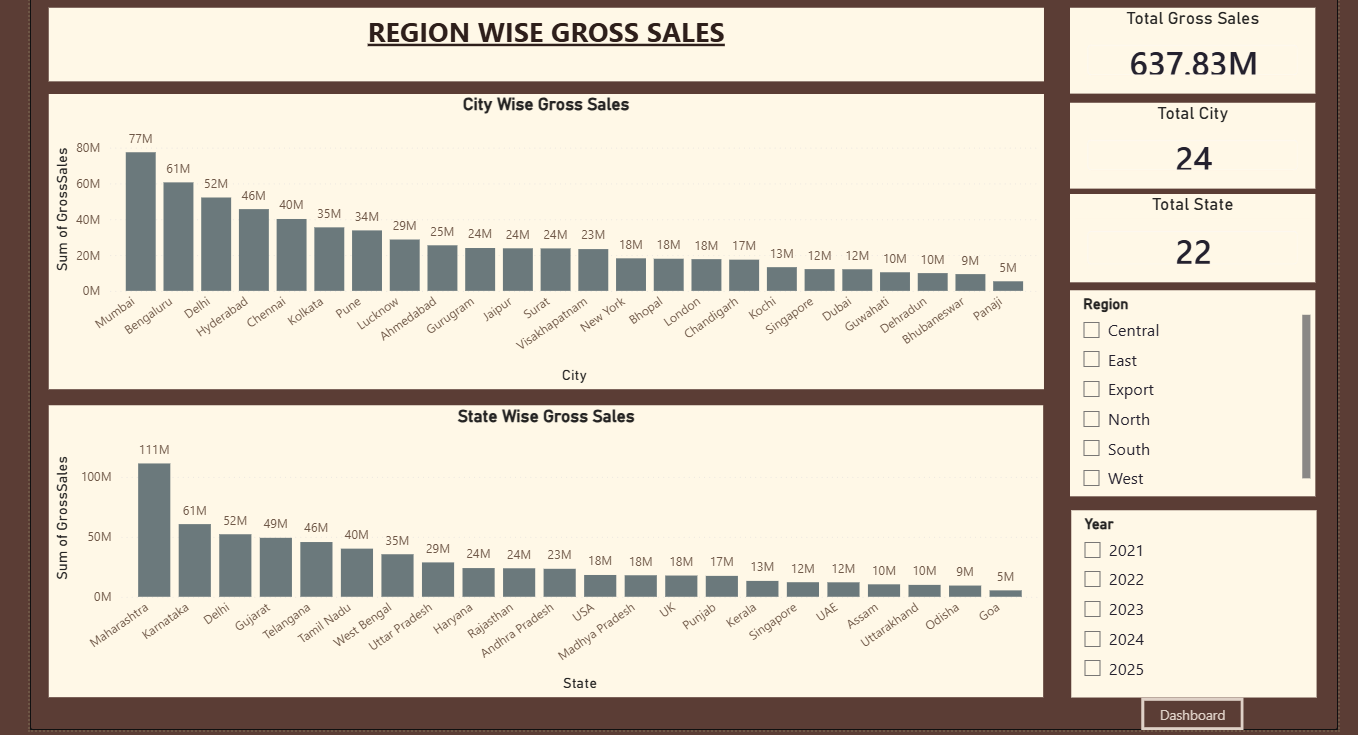

The page's visual inventory and layout, read from the dashboard file:
{"tool":"powerbi","page":{"name":"Region (Gross Sales)","canvas":[1280,720],"ordinal":1},"visuals":[{"type":"clusteredColumnChart","title":"State Wise Gross Sales","fields":{"Category":["DimGeography.State"],"Y":["Sum(FactSales.GrossSales)"]},"box":[18.3,402.4,973.2,285.4],"z":0},{"type":"slicer","fields":{"Values":["DimDate.Year"]},"box":[1018.3,504.9,240.2,182.9],"z":1000},{"type":"slicer","fields":{"Values":["DimGeography.Region"]},"box":[1017.1,290.2,240.2,201.2],"z":2000},{"type":"clusteredColumnChart","title":"City Wise Gross Sales","fields":{"Category":["DimGeography.City"],"Y":["Sum(FactSales.GrossSales)"]},"box":[18.3,97.8,973.4,288.6],"z":3000},{"type":"textbox","box":[18.3,13.5,973.4,72.1],"z":4000},{"type":"cardVisual","title":"Total City","fields":{"Data":["Count(DimGeography.City)"]},"box":[1017.1,106.1,240.2,84.1],"z":5000},{"type":"cardVisual","title":"Total State","fields":{"Data":["Count(DimGeography.State)"]},"box":[1017.1,195.1,240.2,86.6],"z":6000},{"type":"cardVisual","title":"Total  Gross Sales","fields":{"Data":["Sum(FactSales.GrossSales)"]},"box":[1017.1,13.4,240.2,84.1],"z":7000},{"type":"actionButton","box":[1087.1,688.5,100.3,31.8],"z":7001}]}

Visuals, with their boxes in screenshot pixels (x1, y1, x2, y2):
"State Wise Gross Sales" clusteredColumnChart: select_region(61, 402, 1041, 689)
slicer - DimDate.Year: select_region(1068, 505, 1310, 689)
slicer - DimGeography.Region: select_region(1067, 289, 1309, 492)
"City Wise Gross Sales" clusteredColumnChart: select_region(61, 95, 1042, 386)
textbox: select_region(61, 10, 1042, 83)
"Total City" cardVisual: select_region(1067, 103, 1309, 188)
"Total State" cardVisual: select_region(1067, 193, 1309, 280)
"Total  Gross Sales" cardVisual: select_region(1067, 10, 1309, 95)
actionButton: select_region(1138, 690, 1239, 722)
